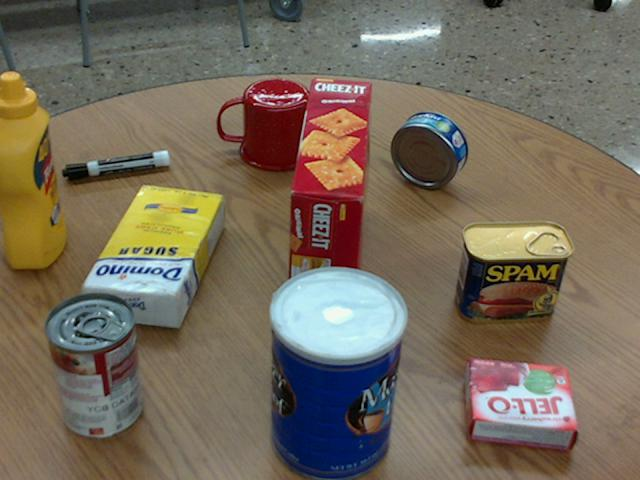cracker_box: (286, 78, 372, 333)
gelatin_box: (467, 358, 576, 450)
large_marker: (63, 149, 168, 178)
master_chef_can: (270, 267, 406, 479)
mug: (218, 78, 313, 170)
mustard_bottle: (0, 72, 65, 266)
potted_meat_can: (455, 221, 572, 322)
sugar_box: (80, 183, 223, 328)
tomato_soup_can: (43, 292, 141, 436)
tuna_fish_can: (389, 111, 466, 187)
